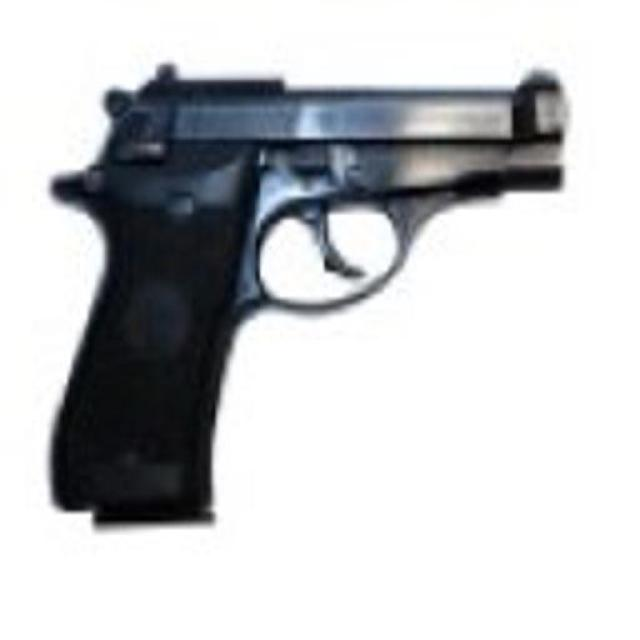pistol: (43, 48, 571, 544)
